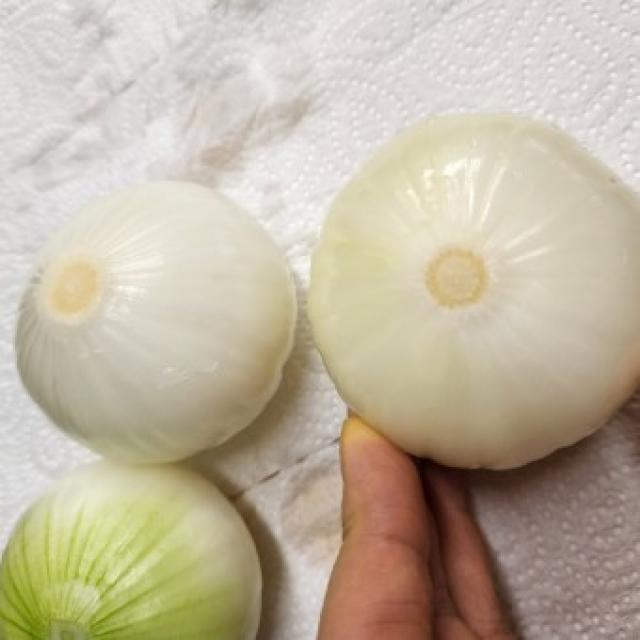onion: (308, 115, 640, 451), (17, 171, 305, 449), (1, 465, 274, 640)
